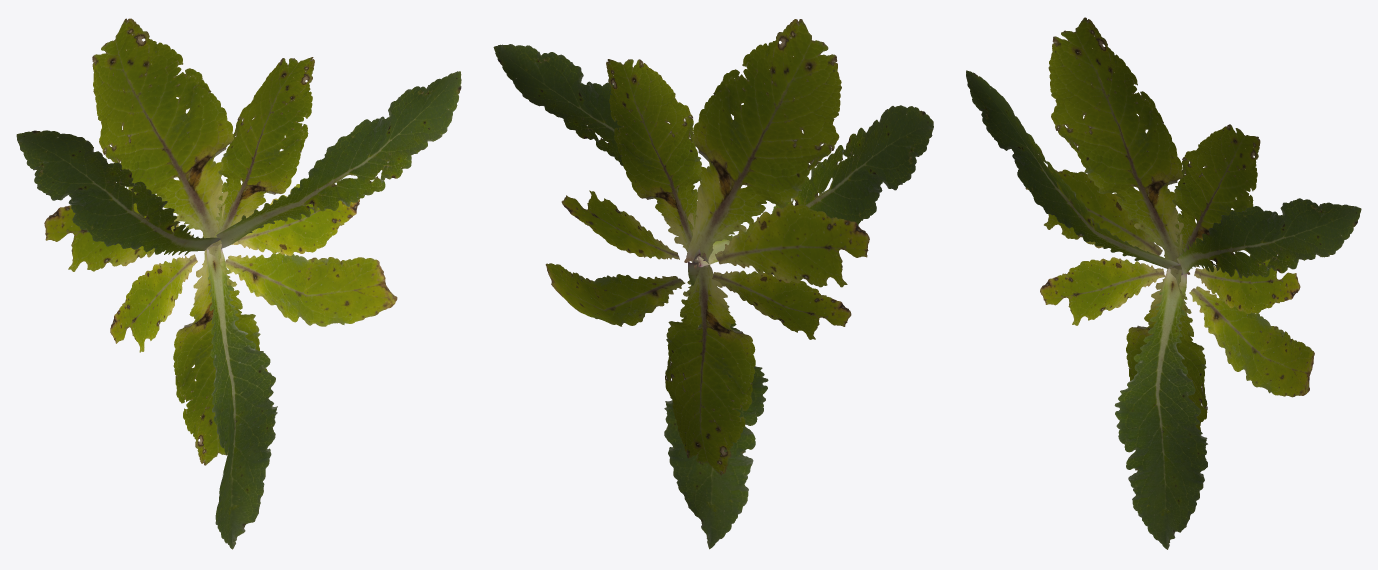
Rendered from Weed_01_Var2_LOD1.fbx.
The picture shows the model from 3 angles, left to right: view 1: azimuth 30°, elevation 25°; view 2: azimuth 150°, elevation 25°; view 3: azimuth 330°, elevation 25°; orthographic projection. The views are drawn at different scales.
Parts seen in each view (by area): view 1: Var2_LOD1; view 2: Var2_LOD1; view 3: Var2_LOD1.
Boxes of the visible parts, bbox=[...] form: Var2_LOD1: bbox=[16, 18, 461, 549]; Var2_LOD1: bbox=[493, 19, 933, 549]; Var2_LOD1: bbox=[966, 17, 1361, 549].
Size of the model in its own units: 31.55 by 38.18 by 5.22.
